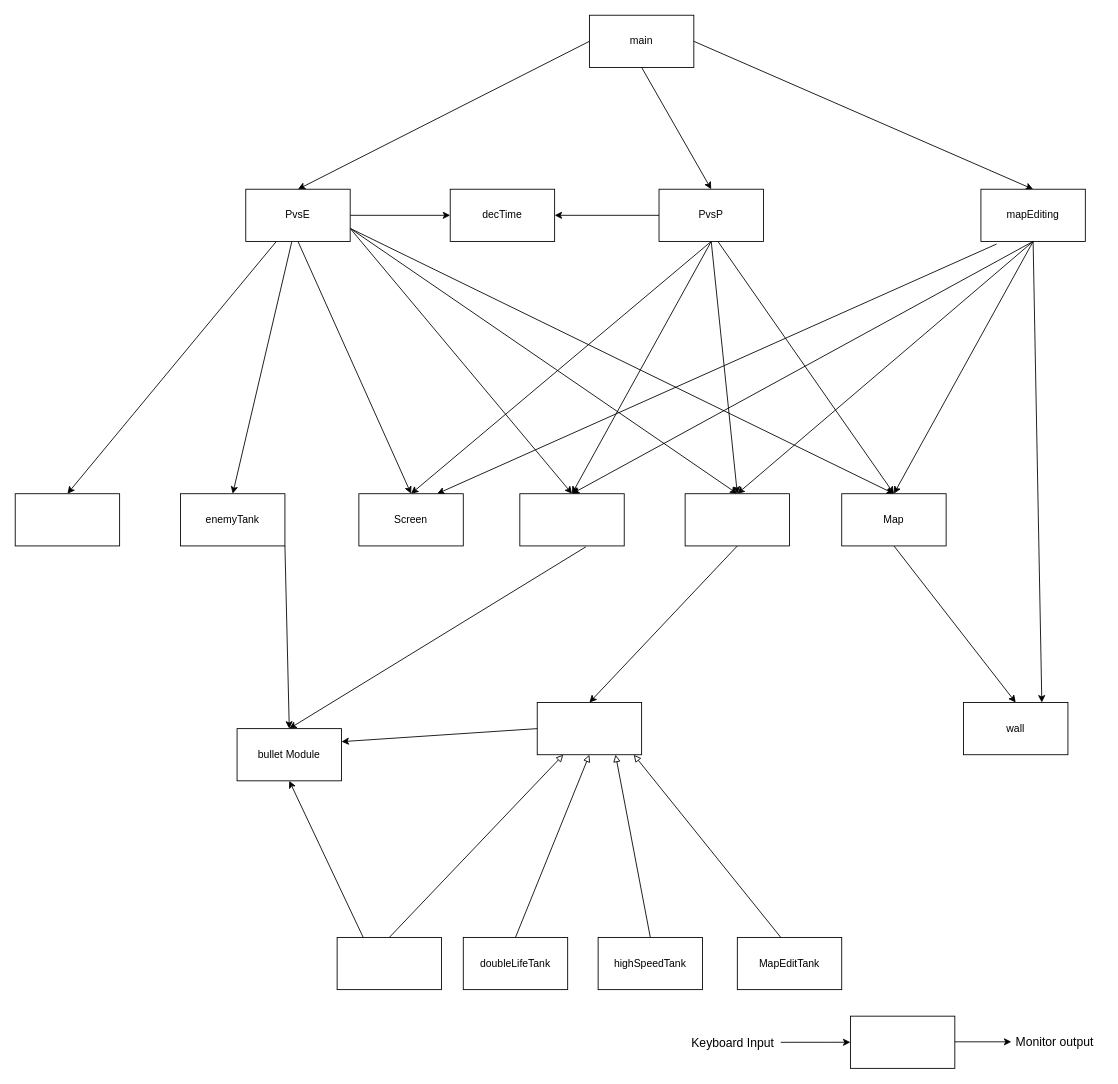
The diagram is 1118 pixels wide and 1084 high, and some of its shapes have lost their labels. Here are the shapes that lost their labels. From the top down, the box of each, then its label:
(14, 493, 120, 546): food
(519, 493, 624, 546): display
(684, 493, 790, 546): myTankControl
(536, 702, 642, 755): myTank
(336, 937, 442, 990): fastBulletTank
(850, 1015, 955, 1068): Hardware Hiding Module
